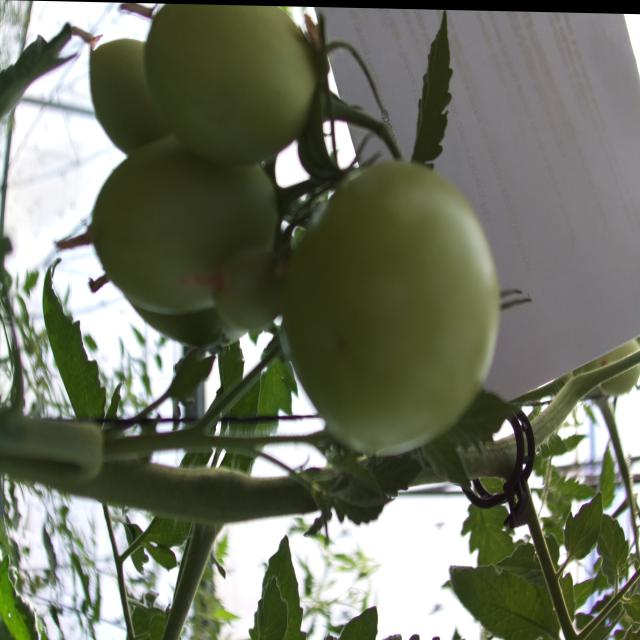yesil: (84, 29, 498, 450)
